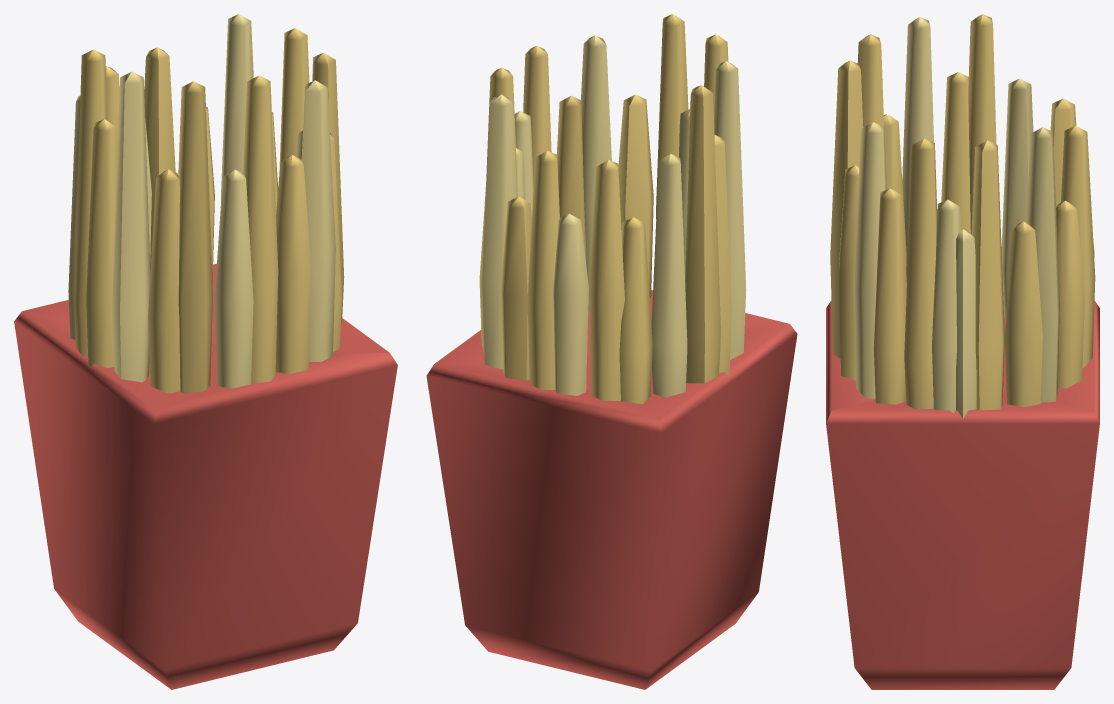
File: fries.glb
3 renders of one model, left to right at view 1: azimuth 30°, elevation 25°; view 2: azimuth 150°, elevation 25°; view 3: azimuth 270°, elevation 25°, orthographic. The views are drawn at different scales.
Visible parts, largest first — view 1: Copo vermelho para batata, Batata 9, Batata 14, Batata 19, Batata 3, Batata 6, Batata 11, Batata 17, Batata 1, Batata 4, Batata 18, Batata 2 (+6 smaller); view 2: Copo vermelho para batata, Batata 4, Batata 12, Batata 7, Batata 18, Batata 2, Batata 15, Batata 9, Batata 20, Batata 10, Batata 3, Batata 11 (+8 smaller); view 3: Copo vermelho para batata, Batata 13, Batata 8, Batata 16, Batata 3, Batata 5, Batata 18, Batata 21, Batata 19, Batata 10, Batata 12, Batata 9 (+8 smaller).
Boxes of the visible parts, <box> form: Copo vermelho para batata: <box>14,263,397,689</box>; Batata 9: <box>112,71,150,382</box>; Batata 14: <box>178,81,212,393</box>; Batata 19: <box>243,75,278,383</box>; Batata 3: <box>301,80,335,361</box>; Batata 6: <box>214,169,253,388</box>; Batata 11: <box>275,155,311,373</box>; Batata 17: <box>86,119,117,368</box>; Batata 1: <box>148,169,180,393</box>; Batata 4: <box>74,49,107,356</box>; Batata 18: <box>221,14,253,200</box>; Batata 2: <box>144,47,175,271</box>; Copo vermelho para batata: <box>426,290,797,689</box>; Batata 4: <box>685,85,720,383</box>; Batata 12: <box>651,153,687,397</box>; Batata 7: <box>588,159,624,400</box>; Batata 18: <box>482,94,516,369</box>; Batata 2: <box>527,150,559,389</box>; Batata 15: <box>553,213,588,395</box>; Batata 9: <box>714,61,746,359</box>; Batata 20: <box>619,217,652,403</box>; Batata 10: <box>500,196,531,380</box>; Batata 3: <box>581,35,611,309</box>; Batata 11: <box>618,94,653,298</box>; Copo vermelho para batata: <box>826,300,1099,689</box>; Batata 13: <box>971,140,1004,410</box>; Batata 8: <box>904,138,937,409</box>; Batata 16: <box>873,188,906,404</box>; Batata 3: <box>853,122,886,398</box>; Batata 5: <box>1004,221,1042,406</box>; Batata 18: <box>1026,127,1059,402</box>; Batata 21: <box>932,199,961,413</box>; Batata 19: <box>830,60,863,358</box>; Batata 10: <box>1056,200,1084,388</box>; Batata 12: <box>1001,78,1033,319</box>; Batata 9: <box>902,17,933,282</box>.
Bounding box in the file's own units: 0.068 × 0.161 × 0.0679.
